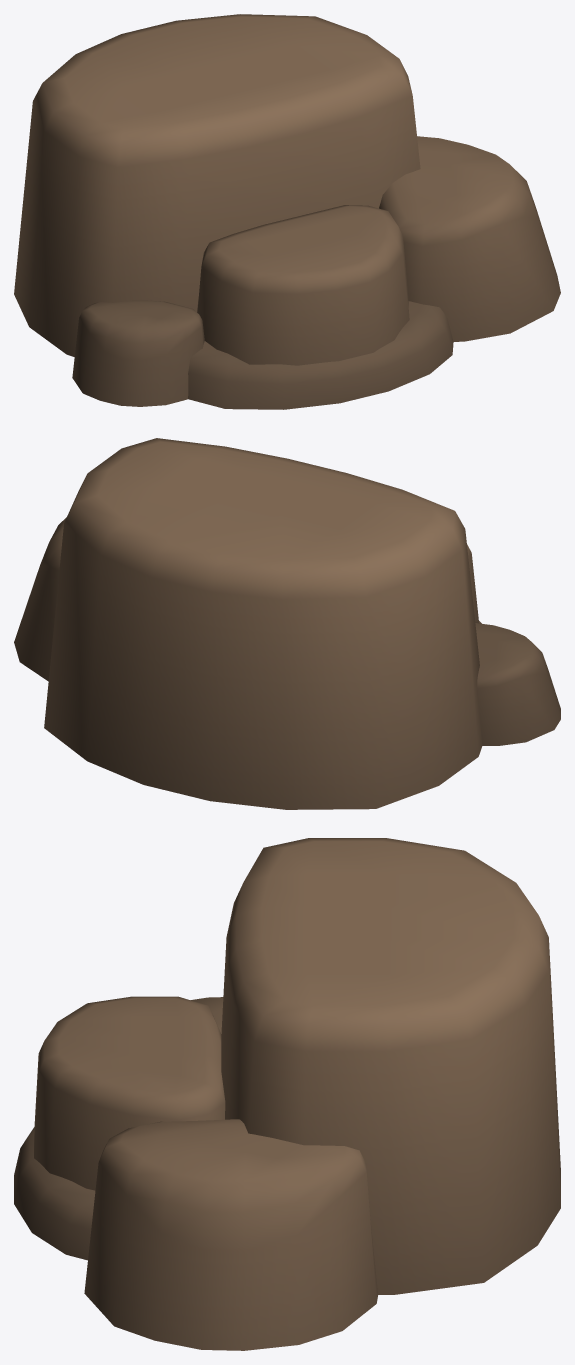
The model's file is Rock_02_A.fbx.
The picture shows the model from 3 angles, top to bottom: view 1: azimuth 30°, elevation 25°; view 2: azimuth 150°, elevation 25°; view 3: azimuth 270°, elevation 25°; orthographic projection. The views are drawn at different scales.
Parts seen in each view (by area): view 1: Rock_02_A; view 2: Rock_02_A; view 3: Rock_02_A.
Part boxes in pixels (box(x1,y1,x2,y2)): Rock_02_A: box(14, 14, 560, 409); Rock_02_A: box(14, 438, 560, 809); Rock_02_A: box(14, 838, 560, 1350).
Size of the model in its own units: 6349 by 2765 by 5164.
